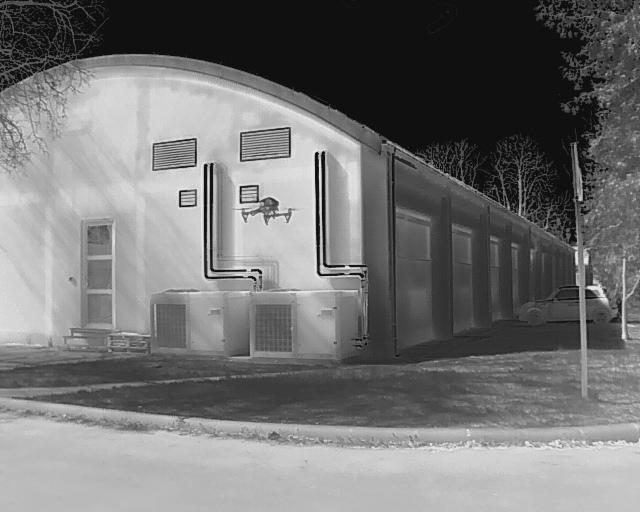drone: (236, 188, 302, 242)
